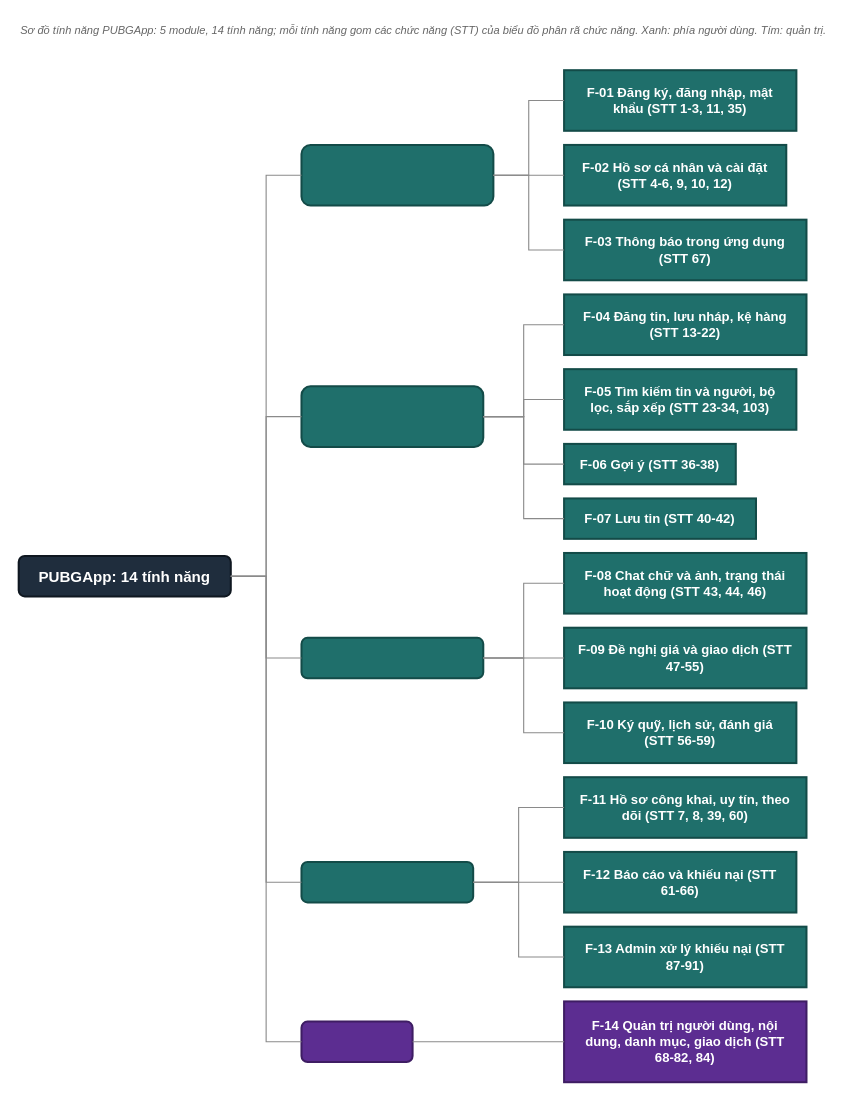
This 843x1100 diagram has some shape labels left out. Here are the shapes that lost their labels. From the top down, the centre of each, then its label:
At [397,174]: "A. Tài khoản và thông báo".
At [392,416]: "B. Tin đăng và khám phá".
At [392,657]: "C. Chat và giao dịch".
At [387,882]: "D. Hồ sơ và tin cậy".
At [356,1041]: "E. Quản trị".
